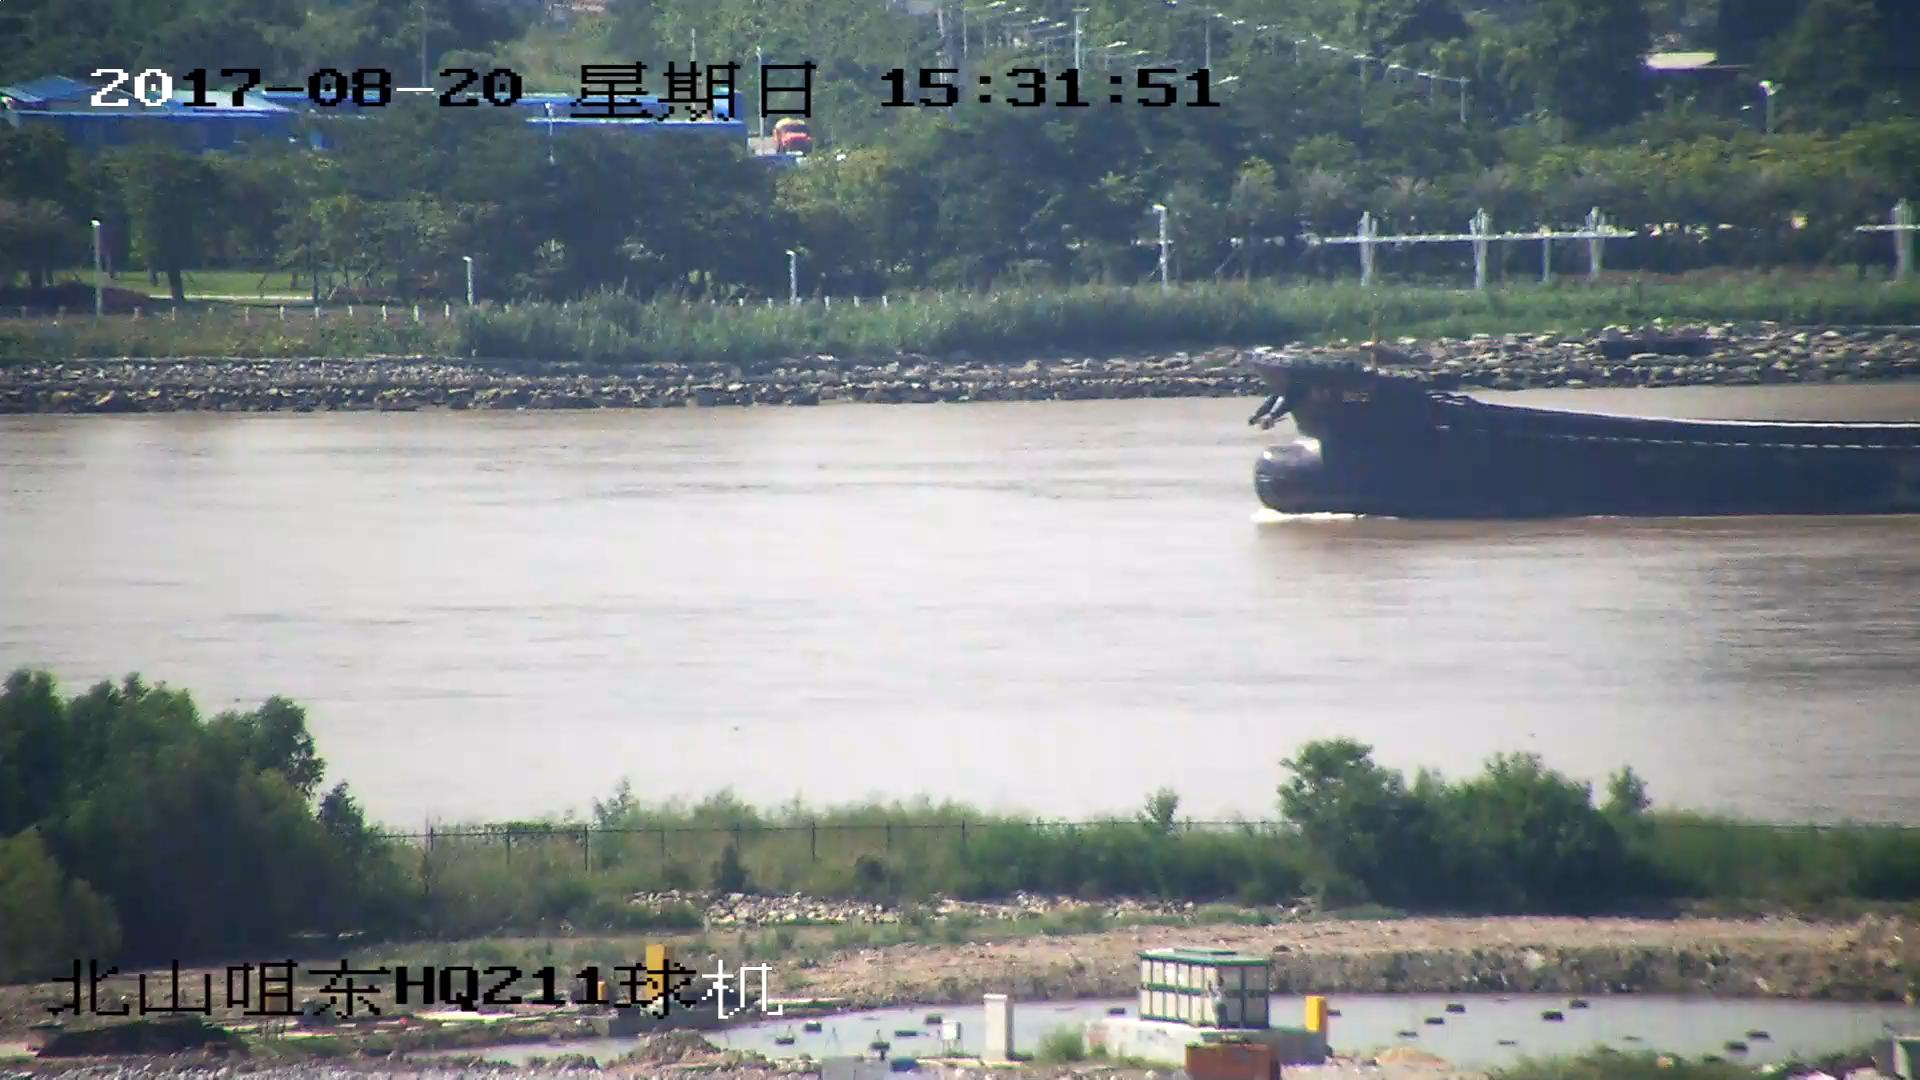general cargo ship: (1253, 358, 1920, 519)
